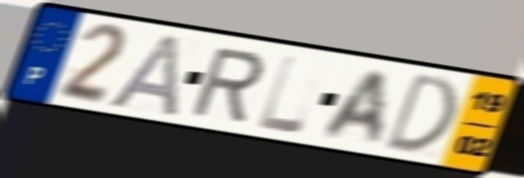2: (54, 21, 130, 106)
A: (101, 31, 185, 120), (317, 67, 391, 147)
D: (380, 70, 460, 155)
L: (255, 51, 308, 136)
R: (187, 45, 267, 124)
